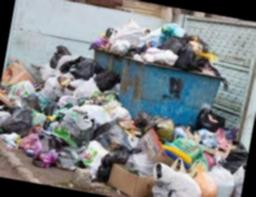trash: (0, 23, 125, 183), (92, 96, 254, 197), (90, 13, 230, 79)
trash_can_overflow: (0, 0, 256, 197)
